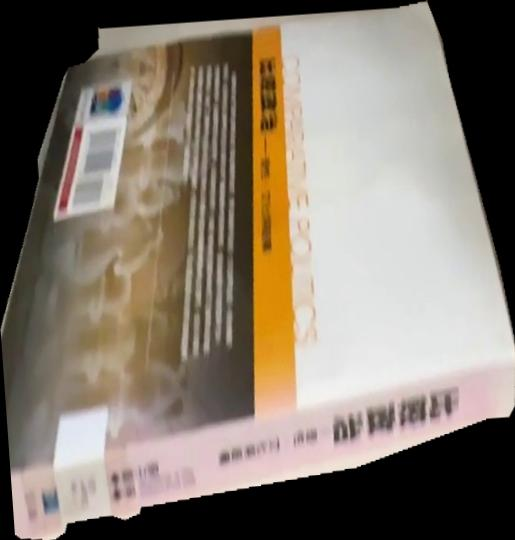flat: (1, 1, 515, 540)
